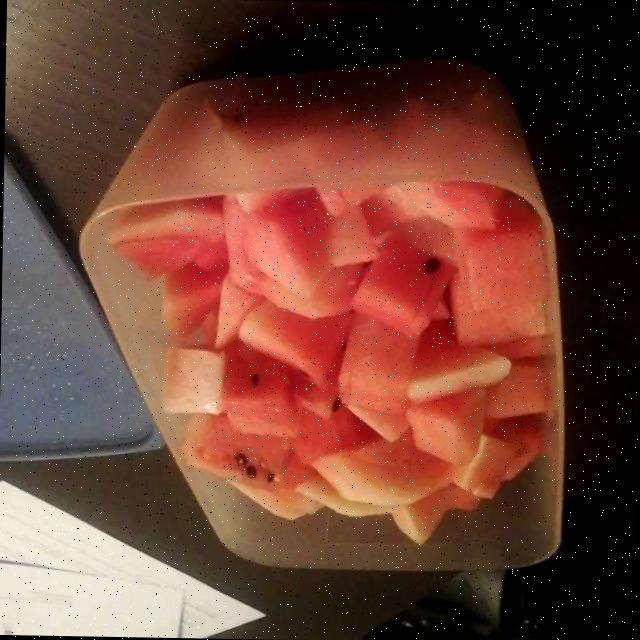watermelon-fresh: (125, 188, 544, 532)
